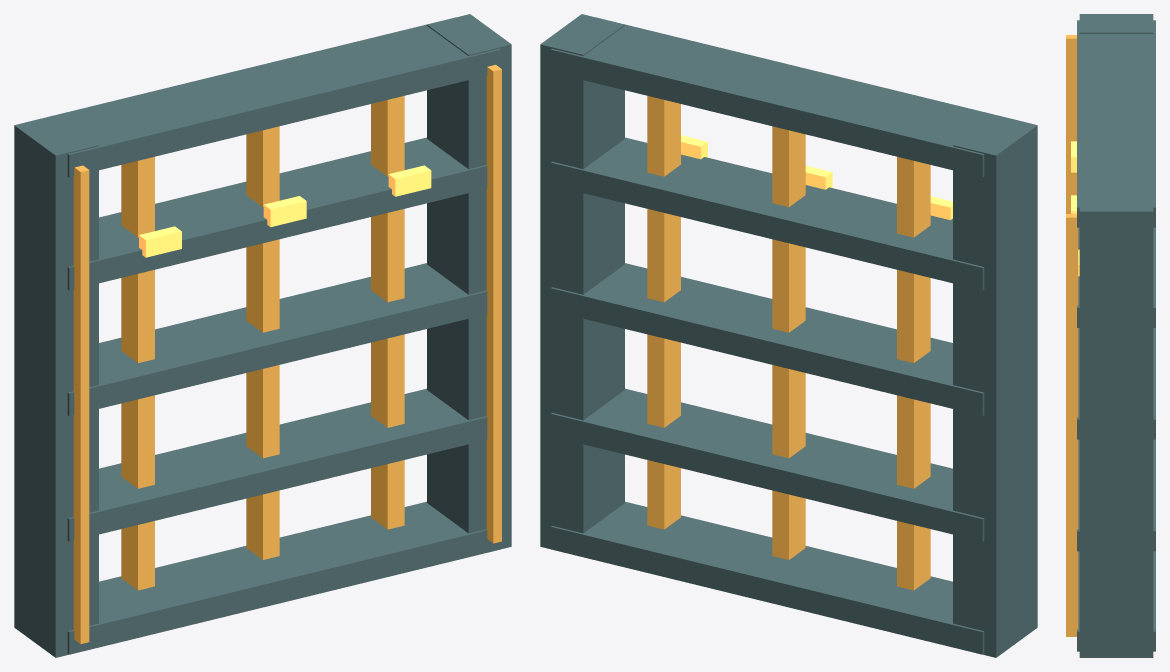
The model's file is enclosure.gltf.
The picture shows the model from 3 angles, left to right: view 1: azimuth 30°, elevation 25°; view 2: azimuth 150°, elevation 25°; view 3: azimuth 270°, elevation 25°; orthographic projection. The views are drawn at different scales.
Parts seen in each view (by area): view 1: wall-module-0; view 2: wall-module-0; view 3: wall-module-0.
Part boxes in pixels (x1,y1,x2,y2): wall-module-0: (14,14,511,657); wall-module-0: (540,14,1037,657); wall-module-0: (1066,14,1155,657).
Size of the model in its own units: 0.95 by 1 by 0.1825.
